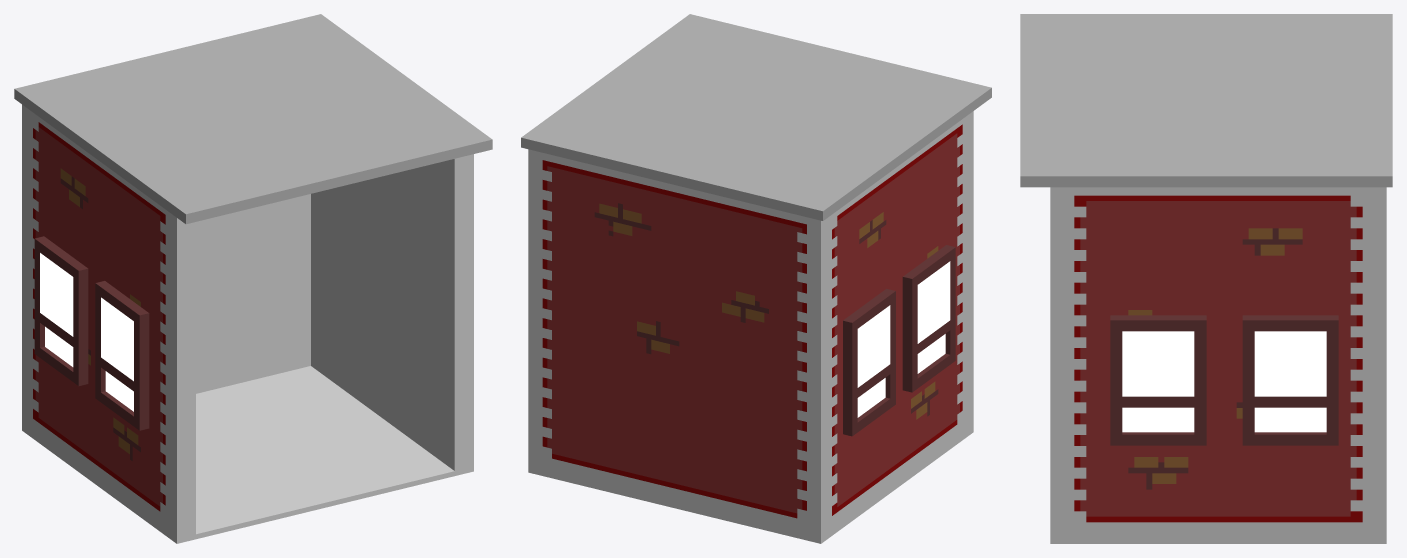
Rendered from typeTen.glb.
The picture shows the model from 3 angles, left to right: view 1: azimuth 30°, elevation 25°; view 2: azimuth 150°, elevation 25°; view 3: azimuth 270°, elevation 25°; orthographic projection. The views are drawn at different scales.
Visible parts, largest first — view 1: ObjObject; view 2: ObjObject; view 3: ObjObject.
Boxes of the visible parts, <box> form: ObjObject: <box>14,14,492,543</box>; ObjObject: <box>521,14,991,543</box>; ObjObject: <box>1020,14,1392,543</box>.
Size of the model in its own units: 6.6 by 6.8 by 6.2.
2 materials, 1 textured.
